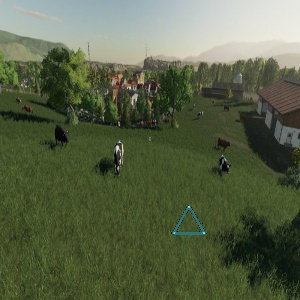triangle: (169, 202, 208, 240)
